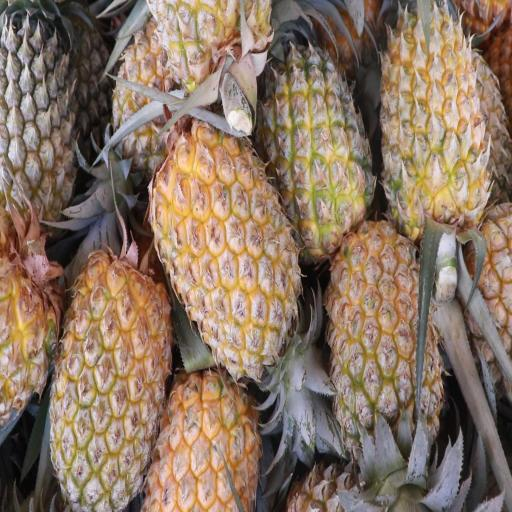------------------------------: (251, 16, 372, 266), (146, 0, 280, 153)
Pineapple - v8 v1: (145, 116, 299, 386), (320, 208, 445, 512), (46, 234, 176, 512), (372, 0, 484, 262), (139, 354, 268, 512)
